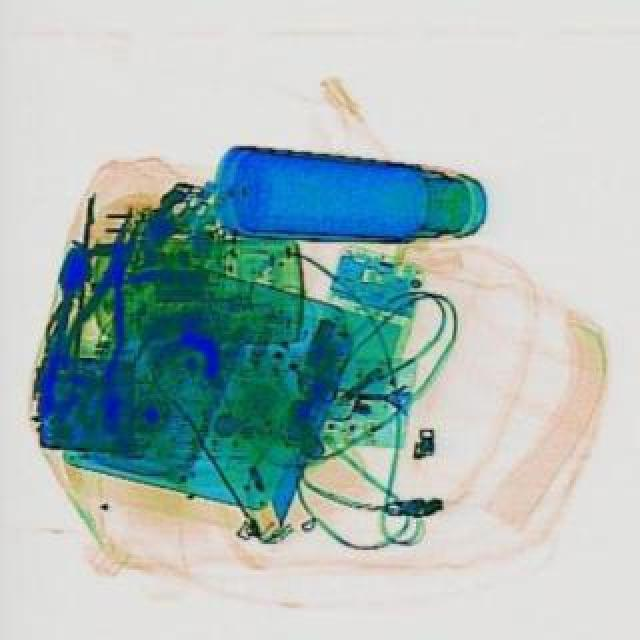wrench: (40, 202, 164, 434)
